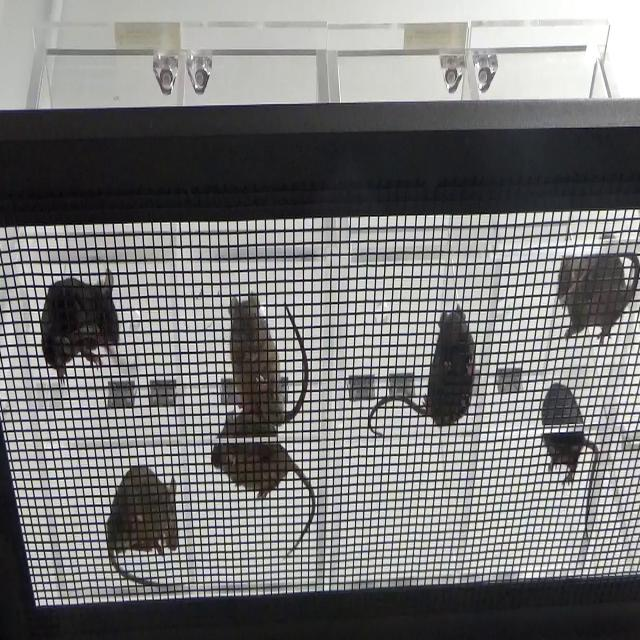lick claw: (220, 293, 311, 431)
lick tail: (35, 270, 124, 378)
scratch: (545, 241, 640, 350)
